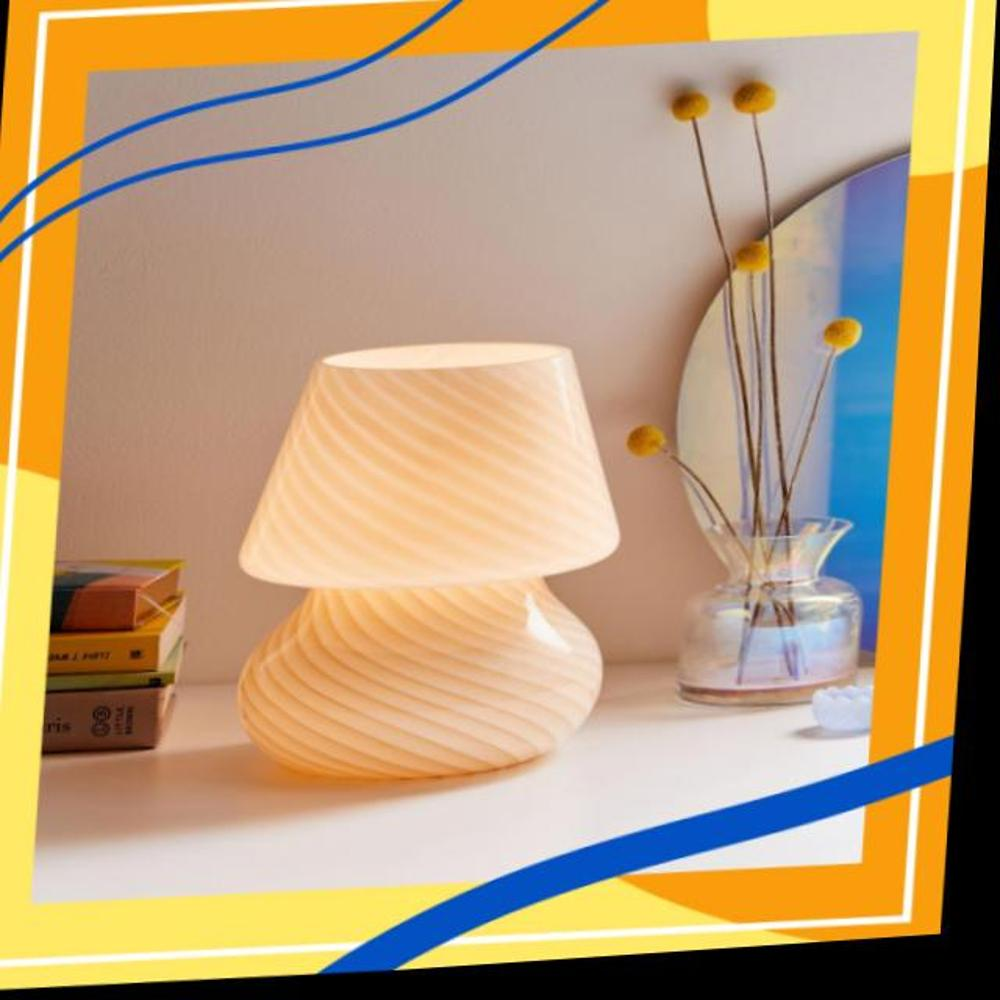shelf: (196, 280, 700, 844)
